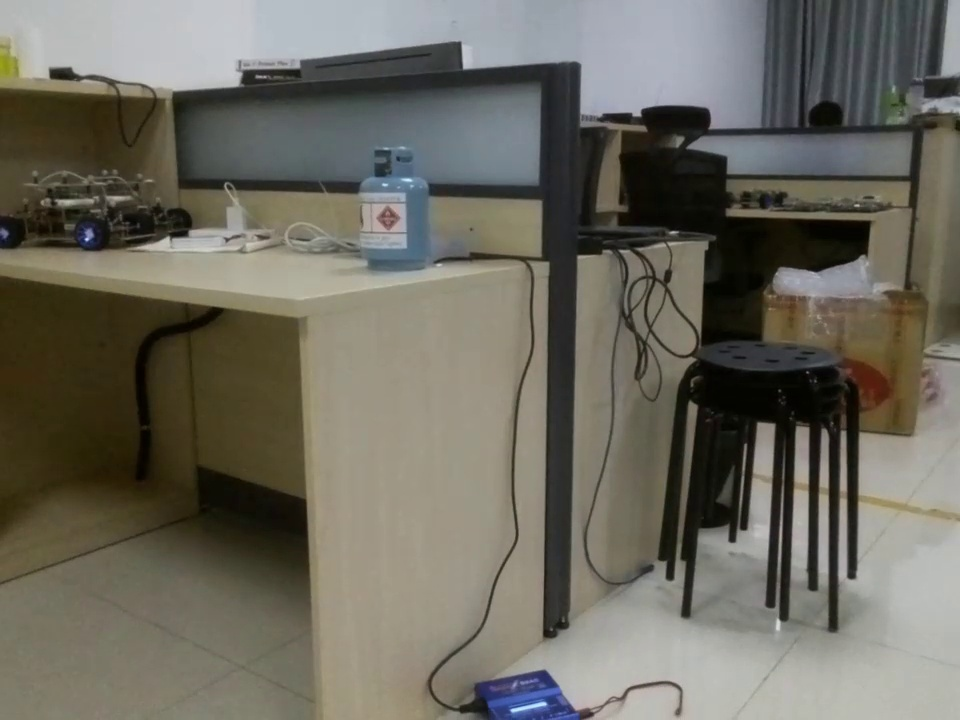gas tank: (350, 144, 439, 272)
